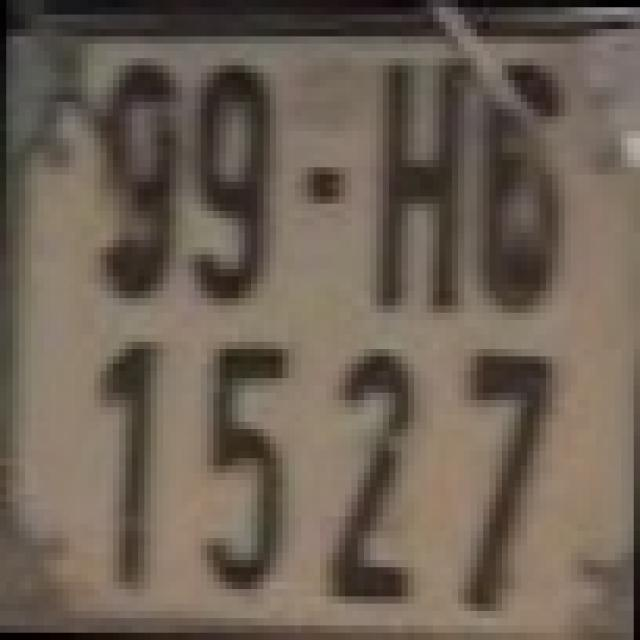1: (94, 335, 163, 589)
2: (333, 349, 414, 604)
5: (200, 342, 288, 589)
6: (477, 58, 565, 306)
7: (464, 349, 552, 611)
9: (194, 66, 270, 306), (100, 58, 176, 298)
H: (370, 58, 464, 306)
